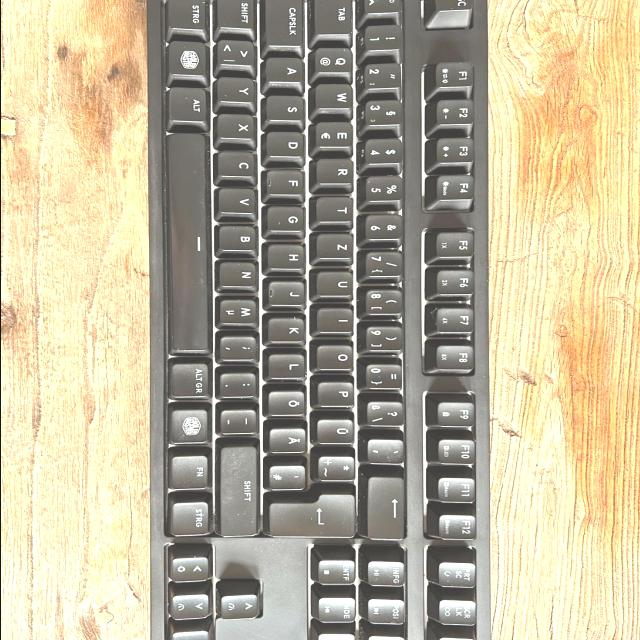0: (365, 362, 406, 390)
1: (366, 23, 405, 51)
2: (365, 61, 405, 89)
3: (366, 98, 404, 126)
4: (366, 137, 403, 165)
5: (365, 175, 405, 203)
6: (365, 213, 405, 241)
7: (365, 250, 404, 278)
8: (365, 287, 406, 315)
9: (366, 323, 407, 351)
a: (267, 56, 308, 82)
accent: (368, 437, 408, 464)
ae: (270, 426, 310, 453)
alt-left: (169, 87, 208, 122)
altgr-right: (170, 360, 214, 399)
b: (220, 224, 262, 252)
c: (219, 150, 261, 178)
caret: (366, 0, 405, 12)
comma: (220, 334, 262, 362)
d: (267, 131, 309, 157)
del: (368, 475, 408, 539)
e: (316, 121, 356, 148)
enter: (267, 491, 357, 537)
f: (267, 169, 309, 195)
g: (269, 205, 309, 232)
h: (264, 244, 306, 272)
hash: (269, 463, 309, 489)
i: (318, 306, 358, 334)
j: (269, 280, 309, 306)
k: (266, 317, 307, 345)
keyboard: (144, 0, 492, 640)
l: (269, 352, 309, 378)
less: (217, 38, 260, 66)
m: (219, 297, 262, 327)
minus: (221, 408, 261, 434)
n: (219, 259, 262, 291)
o: (317, 343, 357, 371)
oe: (269, 389, 309, 415)
p: (318, 380, 358, 406)
plus: (319, 454, 359, 480)
point: (220, 371, 261, 398)
q: (316, 45, 356, 73)
r: (317, 157, 357, 185)
s: (267, 95, 308, 121)
shift-left: (217, 0, 257, 29)
shift-lock: (265, 0, 305, 46)
shift-right: (219, 442, 263, 537)
space: (169, 131, 212, 354)
ss: (366, 399, 408, 426)
strg-left: (168, 0, 209, 30)
strg-right: (173, 499, 213, 536)
t: (317, 196, 357, 223)
tab: (315, 0, 356, 34)
u: (317, 269, 355, 297)
ue: (318, 417, 358, 443)
v: (219, 187, 261, 215)
w: (316, 83, 357, 109)
x: (218, 113, 260, 141)
y: (219, 76, 259, 103)
z: (317, 232, 357, 259)
